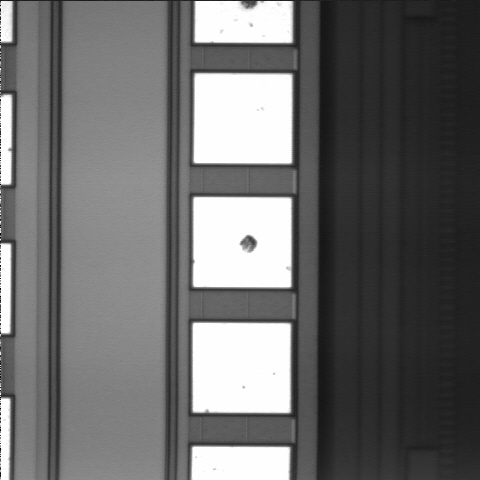pad: (194, 73, 292, 164), (193, 197, 291, 287), (193, 323, 291, 413)
